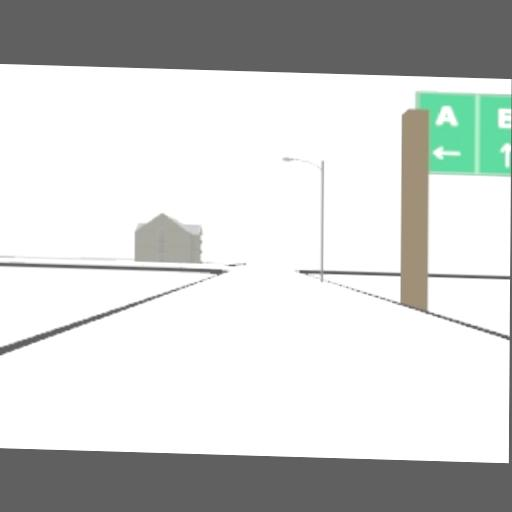A: (435, 104, 457, 125)
B: (496, 108, 511, 128)
Left: (430, 146, 462, 160)
Straight: (499, 143, 511, 167)
